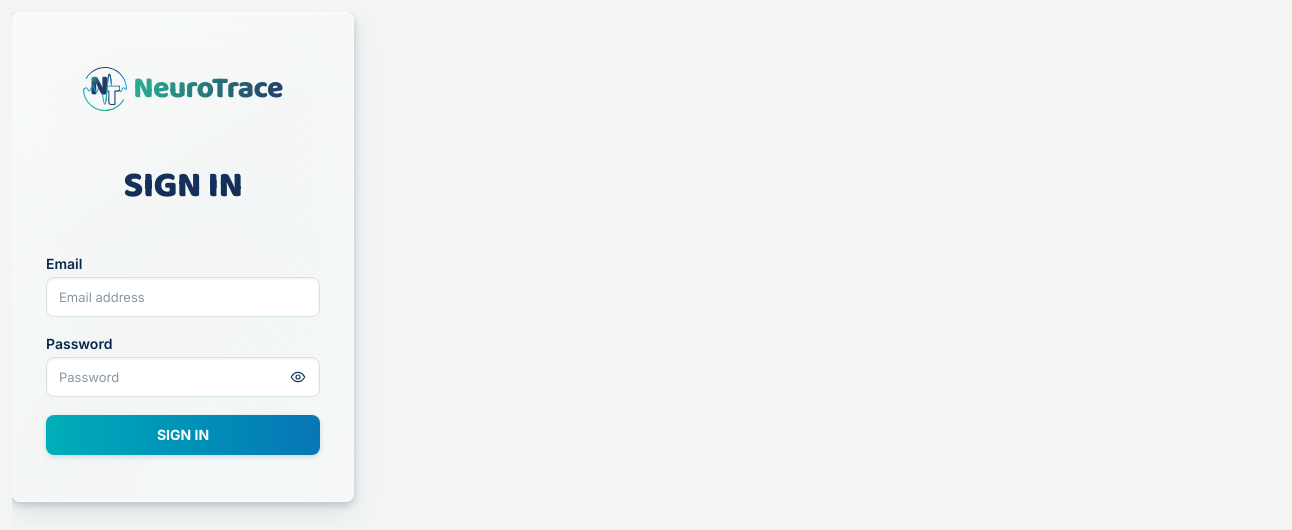
Test: authentication and route protection › signs in, stores tokens and redirects by role
In the field with placeholder "Email address": (183, 297) [46,277,320,317], type "doctor@example.com"
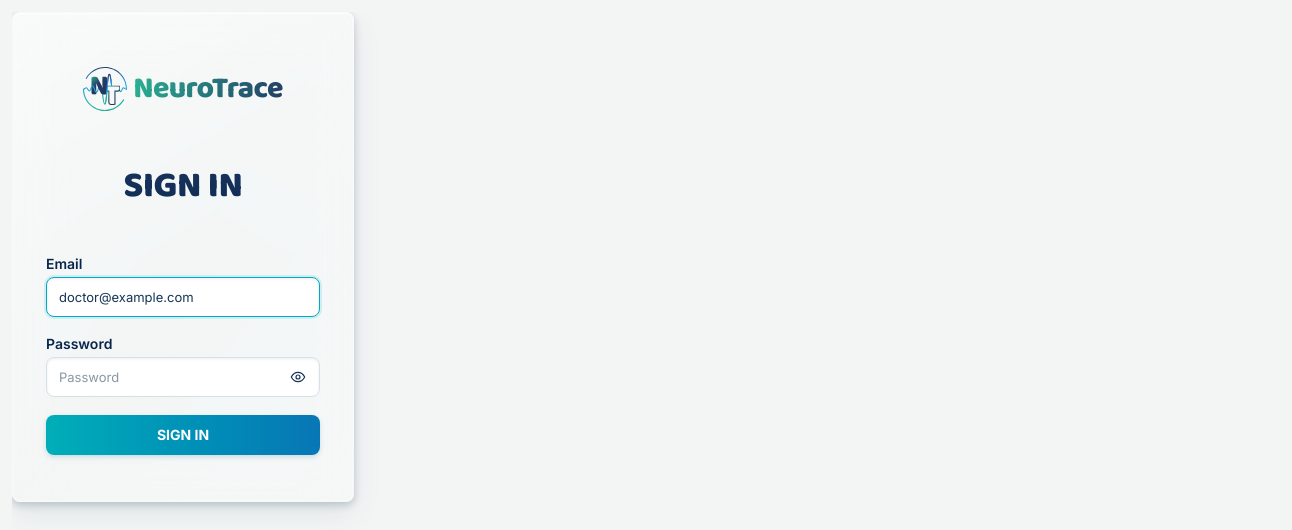
In the password field with placeholder "Password": (183, 377) [46,357,320,397], type "secret123"
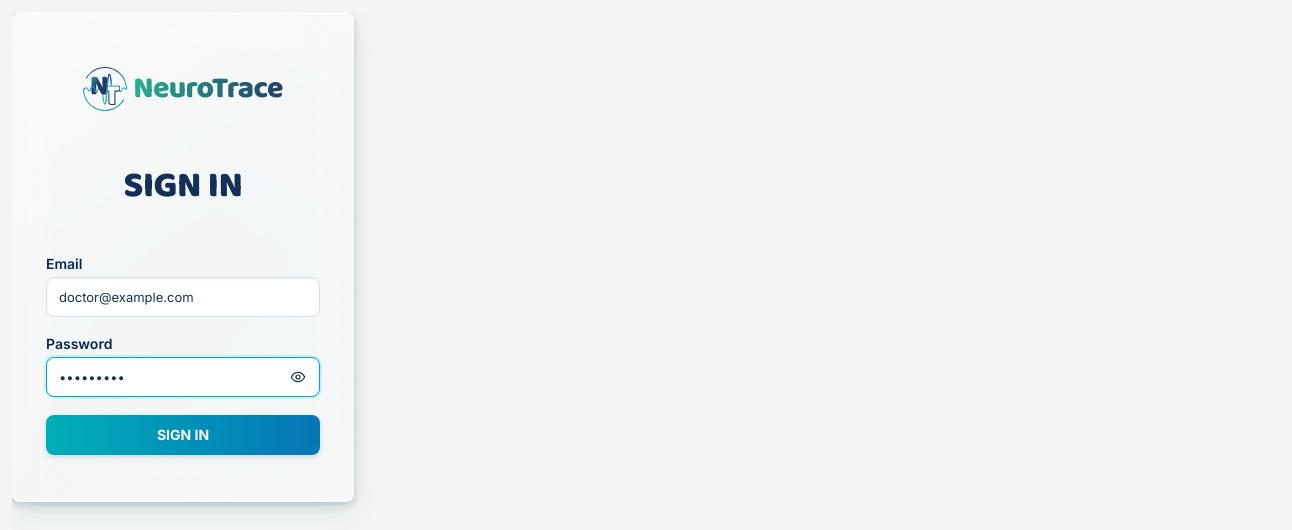
Click the button "SIGN IN": (183, 435) [46,415,320,455]
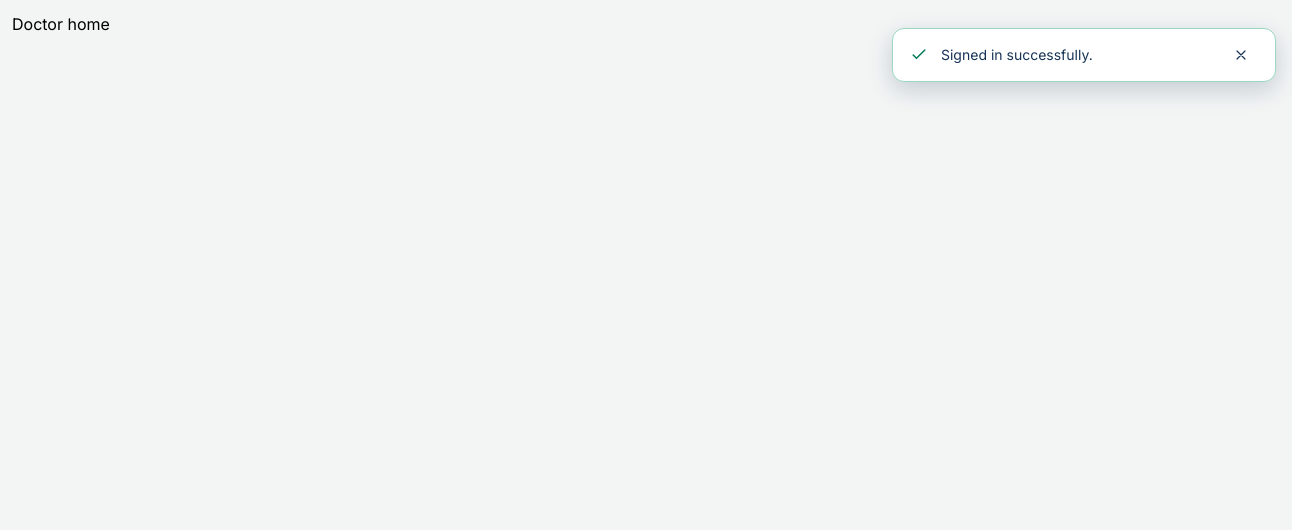
Now the text "Doctor home" is shown, box [12,14,110,34]
